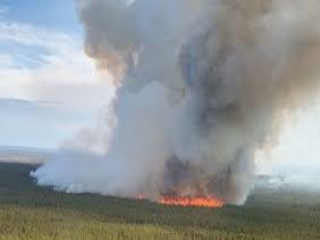fire: (157, 190, 235, 212)
smoke: (72, 1, 316, 192)
